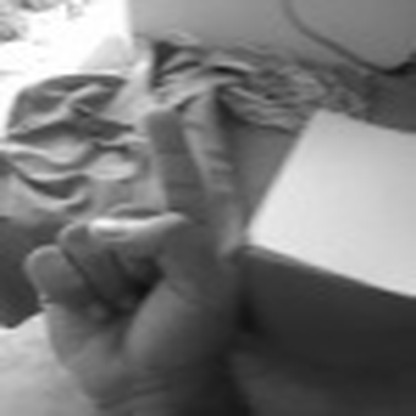d: (23, 95, 238, 415)
